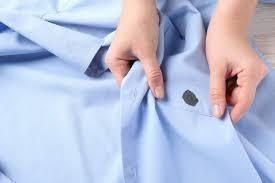ink: (183, 90, 198, 105)
